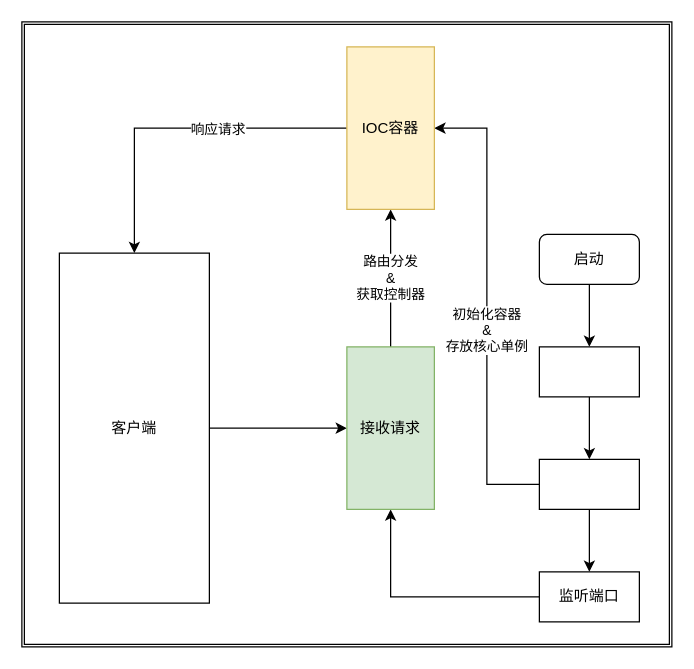
This 694x669 diagram has some shape labels left out. Each missing label, with the box of its shape:
composer: (538, 346, 639, 397)
框架核心代码: (538, 458, 639, 509)
